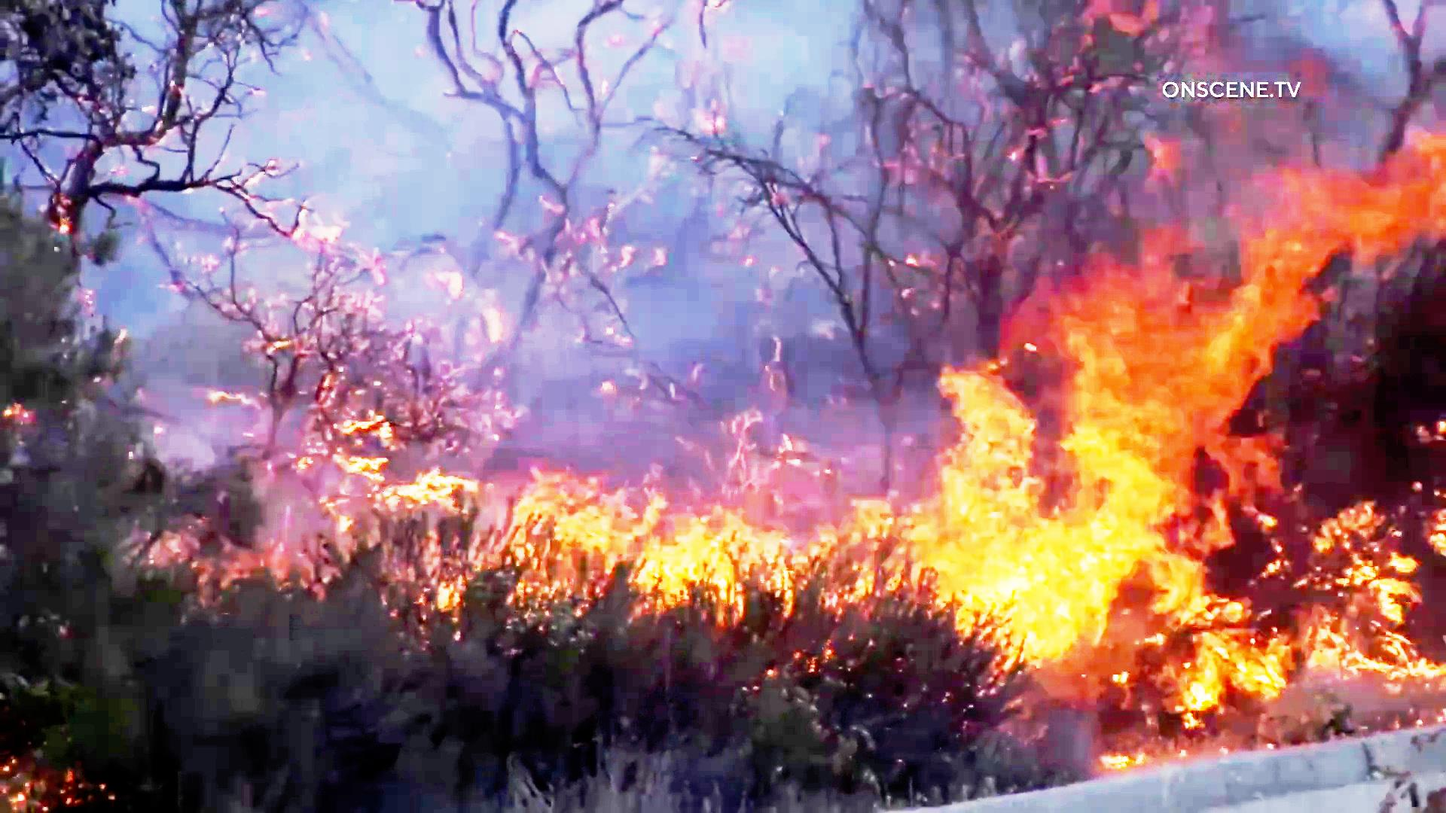fire: (950, 128, 1443, 703), (488, 403, 956, 649)
